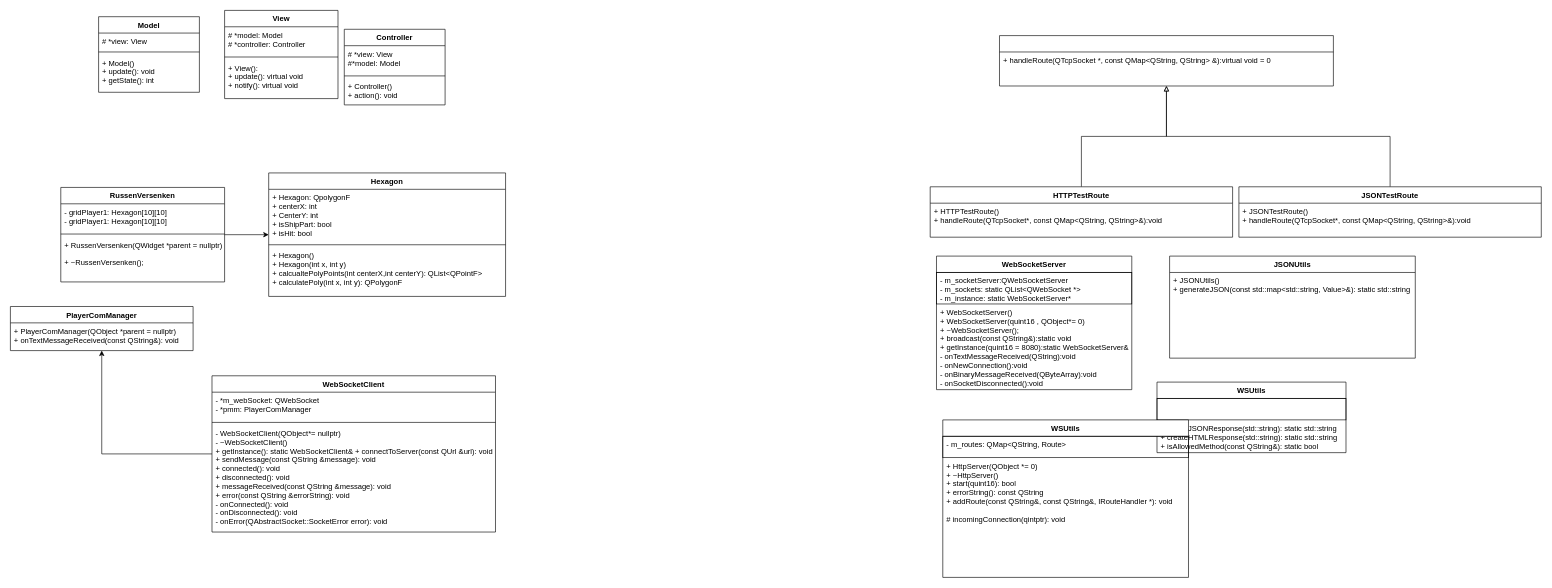
This 1552x588 diagram has some shape labels left out. Here are the shapes that lost their labels. From the top down, the box of each, then its label:
(999, 35, 1333, 86): IRouteHandler
(1156, 398, 1346, 420): - m_allowedMethods: static QStringList
